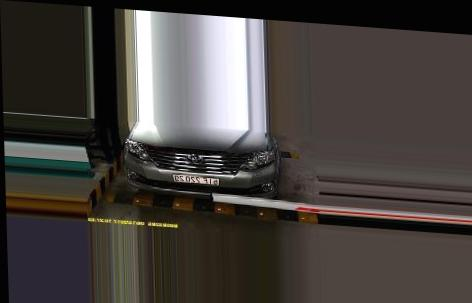License_Plate: (172, 172, 220, 186)
